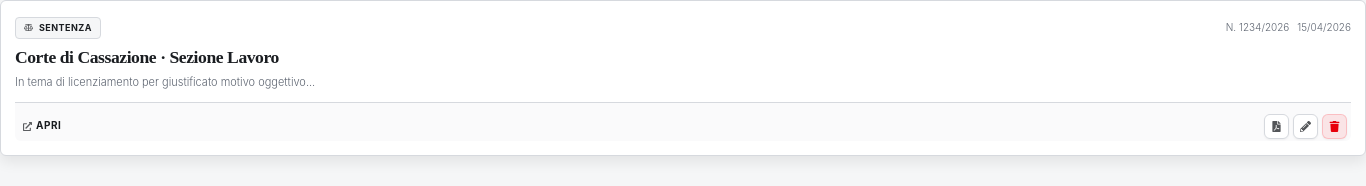
DocumentCard Component Suite › annulla la modalità di rinomina al click su Annulla
Click the button titled "Rinomina". click: point(1306, 126)
box: [1293,114,1318,139]
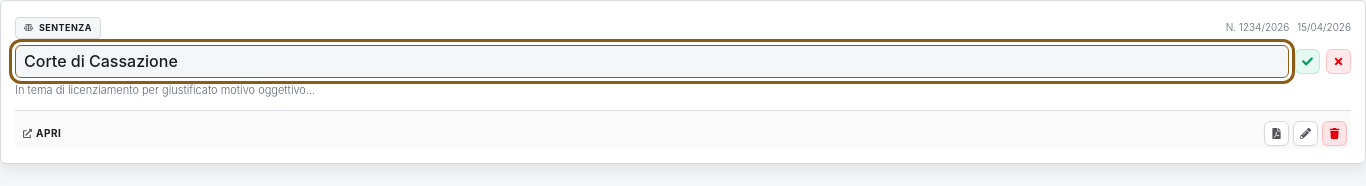
Expected: the field is shown, [15,45,1289,78]
Click the button titled "Annulla". click: point(1338, 61)
box: [1326,49,1351,74]
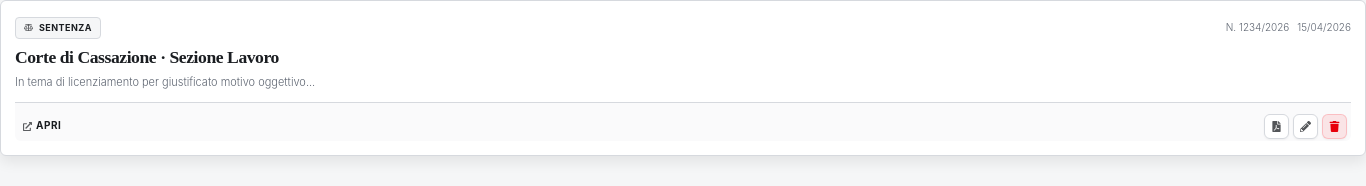
Expected: the field is gone
